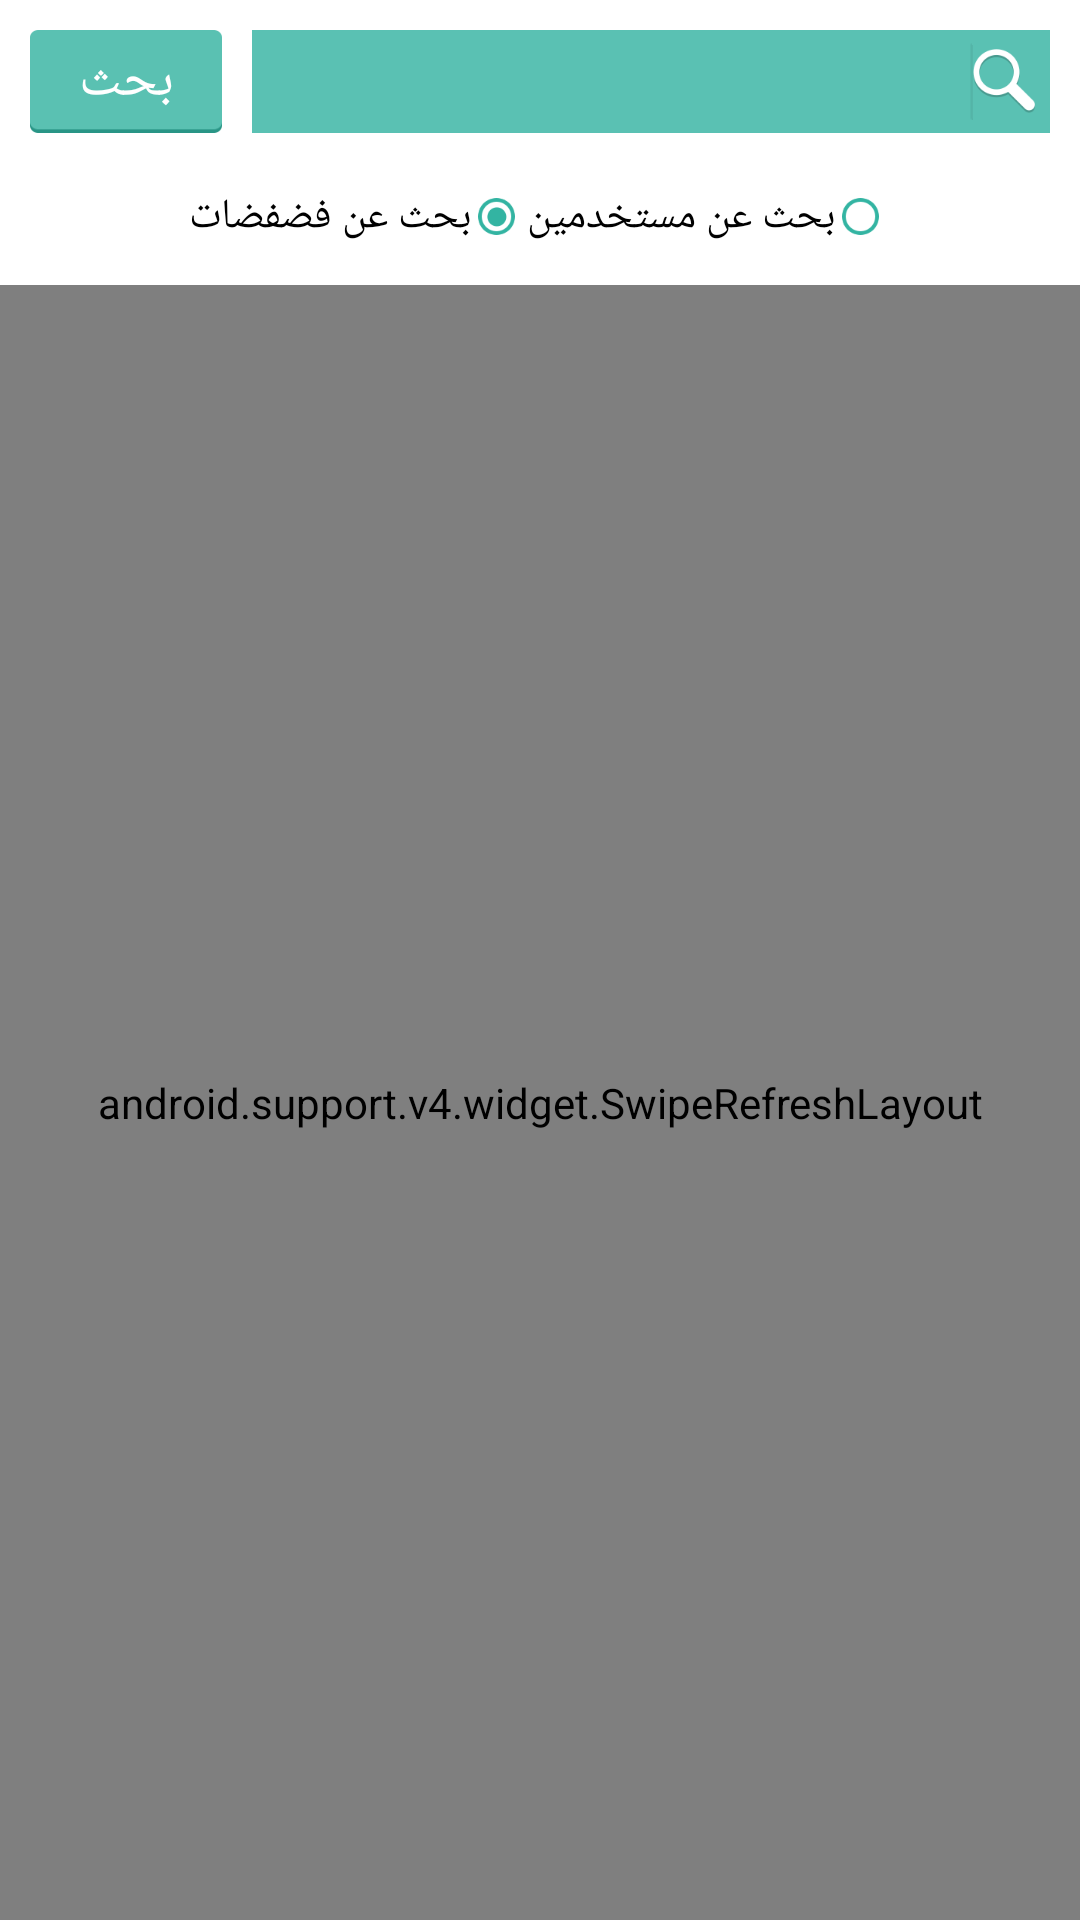

Where icons sit on this 1080 x 1920 app screen, as rect(x1, y1, x2, y2):
radiobutton: rect(478, 198, 515, 235), rect(842, 198, 879, 235)
